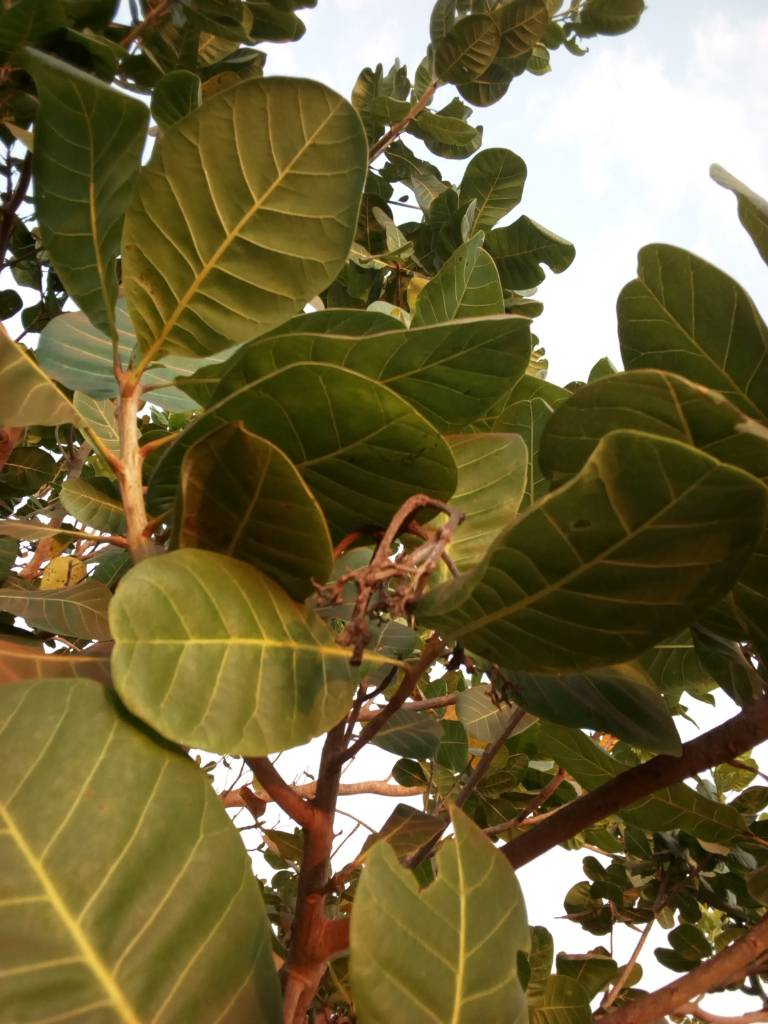Dessèchement des bourgeons: (308, 491, 460, 646)
